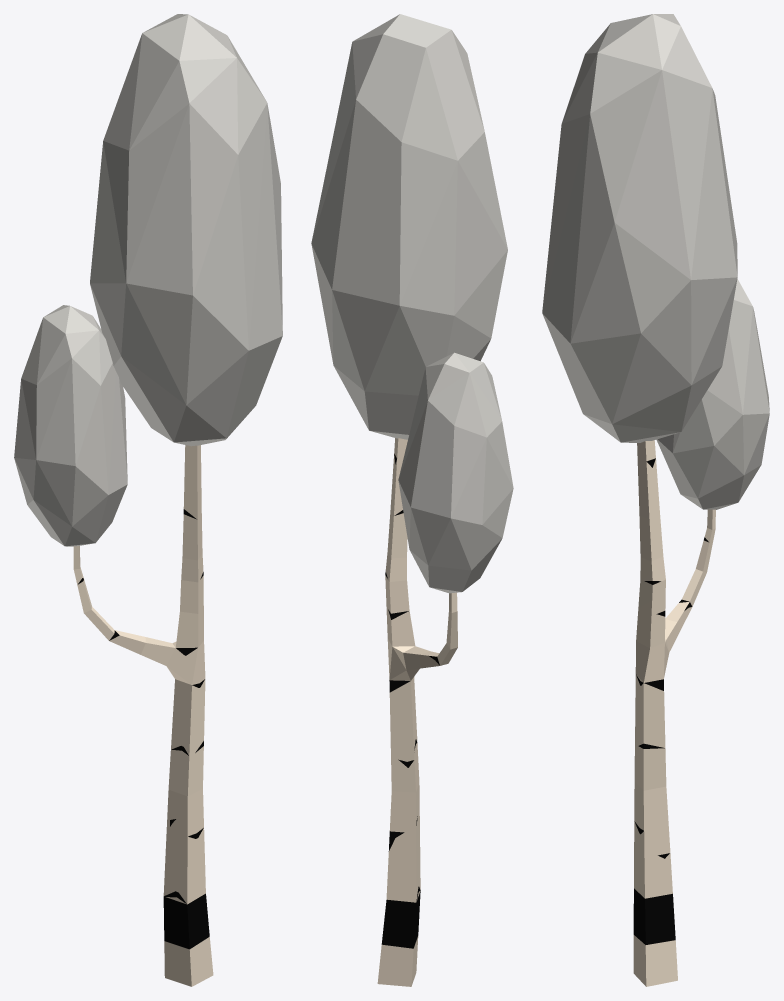
File: Birch_M_flat.glb
3 views of the same model, side by side, from view 1: azimuth 30°, elevation 25°; view 2: azimuth 150°, elevation 25°; view 3: azimuth 270°, elevation 25° (orthographic).
Parts seen in each view (by area): view 1: Birch middle green f; view 2: Birch middle green f; view 3: Birch middle green f.
Part boxes in pixels (<box>): Birch middle green f: <box>14,14,282,986</box>; Birch middle green f: <box>311,14,513,986</box>; Birch middle green f: <box>542,14,769,986</box>.
Size of the model in its own units: 3.39 by 14.88 by 3.19.
